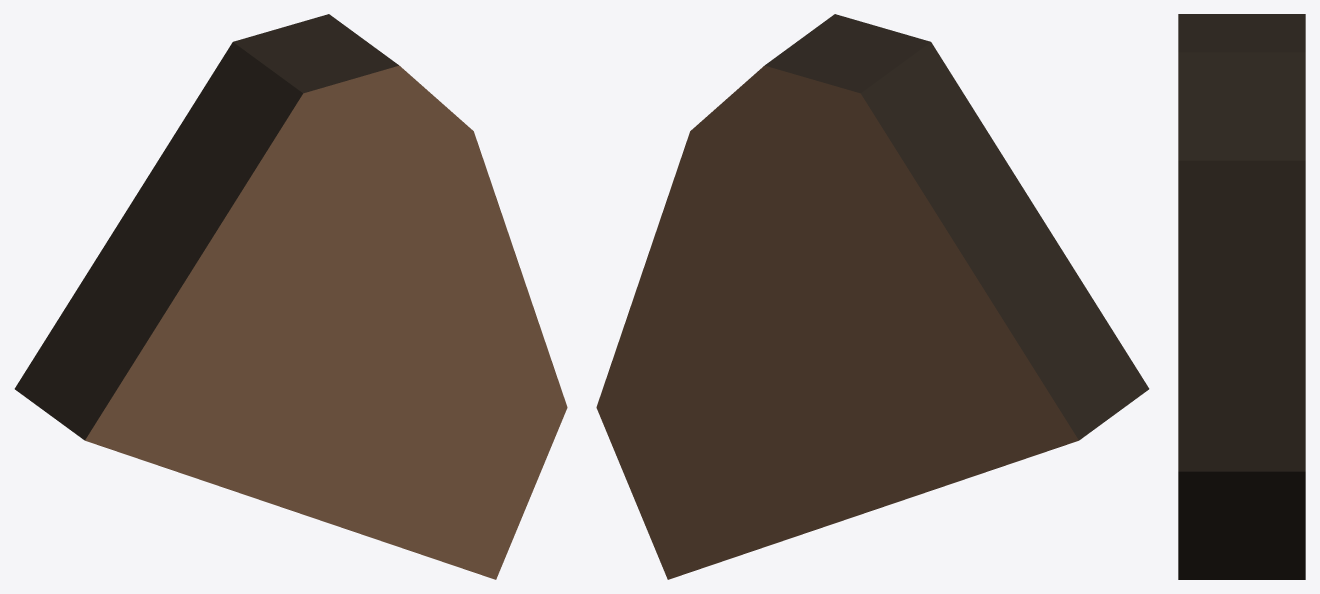
The model's file is SM_DoorShard_03_61.fbx.
The picture shows the model from 3 angles, left to right: view 1: azimuth 30°, elevation 25°; view 2: azimuth 150°, elevation 25°; view 3: azimuth 270°, elevation 25°; orthographic projection. The views are drawn at different scales.
Parts seen in each view (by area): view 1: SM_DoorShard_03_61; view 2: SM_DoorShard_03_61; view 3: SM_DoorShard_03_61.
Part boxes in pixels (left/top/right/bottom): SM_DoorShard_03_61: left=14, top=14, right=567, bottom=579; SM_DoorShard_03_61: left=596, top=14, right=1149, bottom=579; SM_DoorShard_03_61: left=1178, top=14, right=1305, bottom=579.
Size of the model in its own units: 63.29 by 16 by 67.4.
